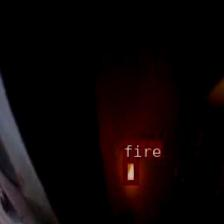fire: (122, 158, 138, 184)
